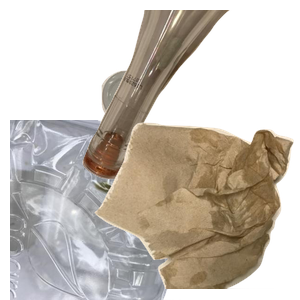glass: (80, 10, 300, 182)
metal: (99, 68, 244, 184)
plastic: (10, 120, 197, 300)
trash: (92, 120, 300, 300)
